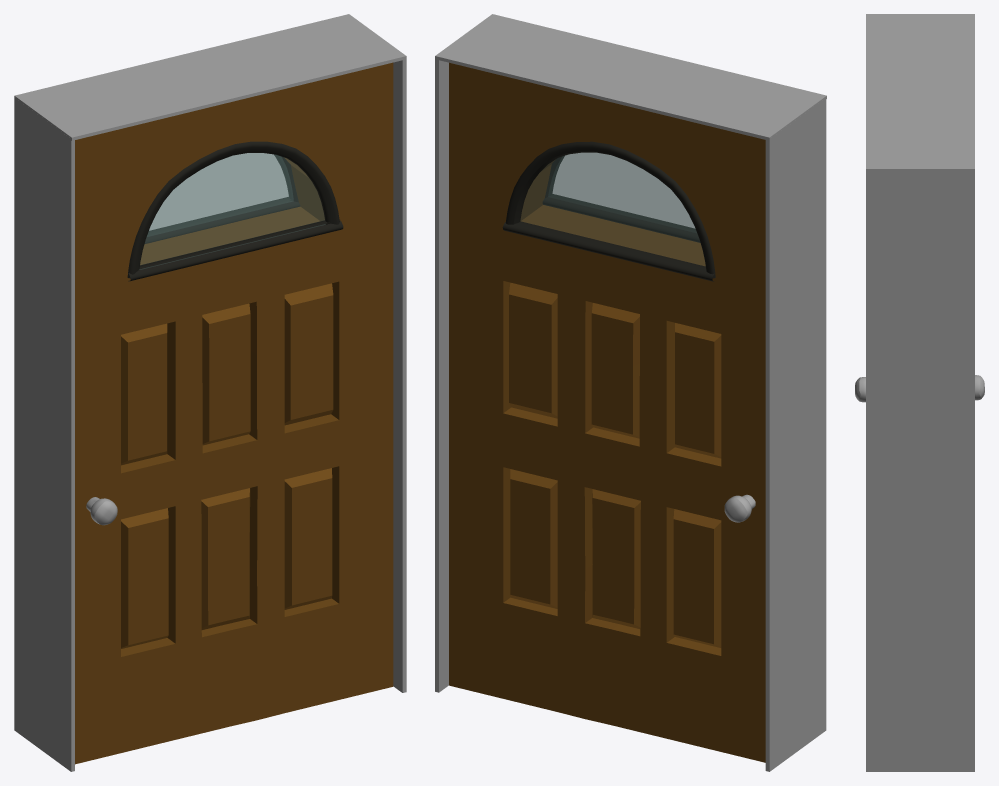
The model's file is frontDoor.obj.
3 renders of one model, left to right at view 1: azimuth 30°, elevation 25°; view 2: azimuth 150°, elevation 25°; view 3: azimuth 270°, elevation 25°, orthographic. The views are drawn at different scales.
Visible parts, largest first — view 1: PolyMesh_7, Cube_3.002, Cube_4.006, sweethome3d_window_pane.006, Cube_3_1, PolyMesh_7-mirror, Extruded_Object_1_1, Extruded_Object_3_1, Extruded_Object_3, Cylinder_2; view 2: PolyMesh_7-mirror, Cube_3.002, Cube_4.006, sweethome3d_window_pane.006, Cube_3_1, Extruded_Object_1.001, Extruded_Object_3, Extruded_Object_3_1, Cylinder_2_1; view 3: Cube_3_1, Cube_4.006, Cylinder_2.
Part boxes in pixels (x1,y1,x2,y2): PolyMesh_7: [75, 62, 393, 764]; Cube_3.002: [14, 97, 74, 771]; Cube_4.006: [14, 14, 406, 140]; sweethome3d_window_pane.006: [139, 153, 325, 269]; Cube_3_1: [393, 59, 406, 692]; PolyMesh_7-mirror: [140, 157, 324, 264]; Extruded_Object_1_1: [127, 141, 339, 278]; Extruded_Object_3_1: [128, 220, 343, 281]; Extruded_Object_3: [144, 197, 300, 243]; Cylinder_2: [86, 497, 117, 525]; PolyMesh_7-mirror: [449, 62, 765, 762]; Cube_3.002: [765, 98, 826, 771]; Cube_4.006: [435, 14, 826, 140]; sweethome3d_window_pane.006: [520, 152, 705, 265]; Cube_3_1: [435, 59, 448, 692]; Extruded_Object_1.001: [505, 141, 715, 278]; Extruded_Object_3: [502, 221, 714, 281]; Extruded_Object_3_1: [542, 194, 700, 242]; Cylinder_2_1: [724, 494, 755, 522]; Cube_3_1: [866, 171, 974, 771]; Cube_4.006: [866, 14, 974, 170]; Cylinder_2: [855, 377, 865, 402].
Size of what is drawn, in the model's own units: 0.6653 by 1.21 by 0.2359.
